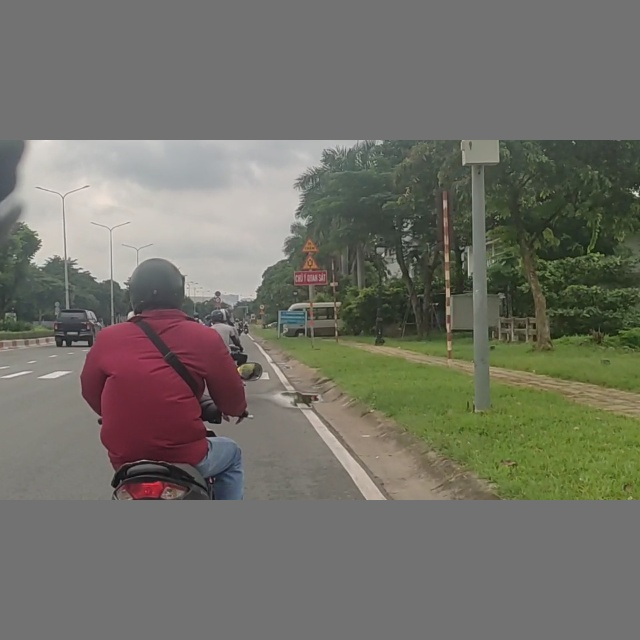P.130: (215, 291, 221, 297)
W.245a: (301, 237, 319, 253)
W.246a: (301, 255, 321, 270)
